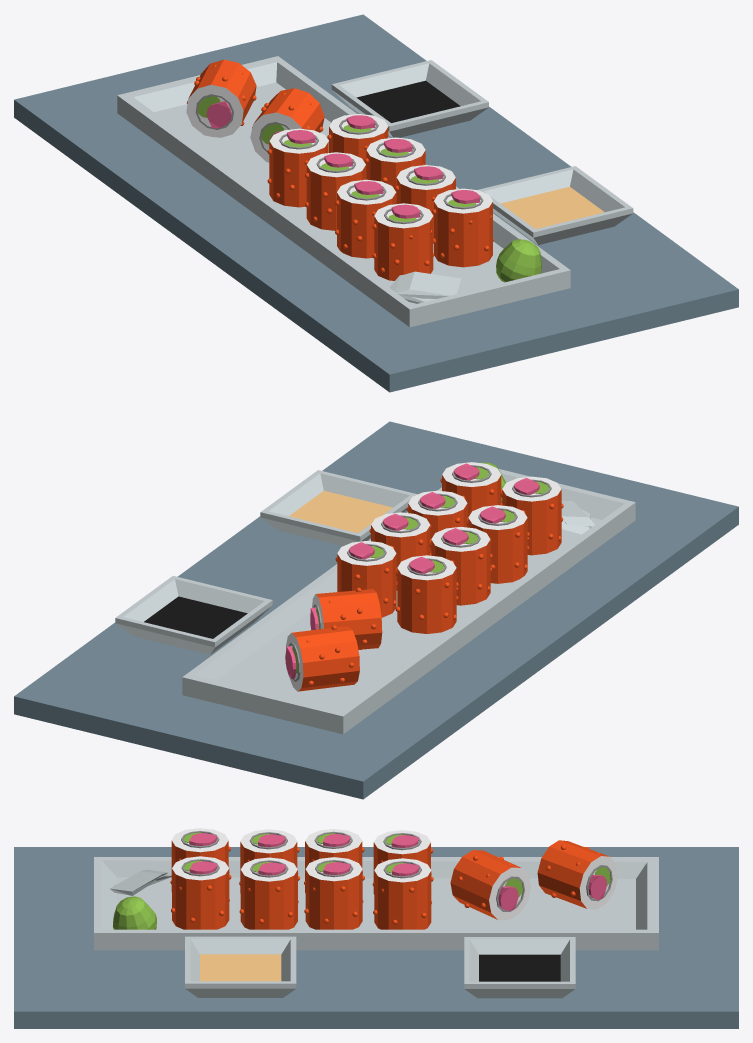
Rendered from 10 Piece Sushi.glb.
The picture shows the model from 3 angles, top to bottom: view 1: azimuth 30°, elevation 25°; view 2: azimuth 150°, elevation 25°; view 3: azimuth 270°, elevation 25°; orthographic projection. The views are drawn at different scales.
Visible parts, largest first — view 1: Node; view 2: Node; view 3: Node.
Boxes of the visible parts, x1,y1,x2,y2 form: Node: (14, 14, 738, 392); Node: (14, 421, 738, 799); Node: (14, 828, 738, 1028).
Size of the model in its own units: 1.02 by 0.2332 by 1.9.
